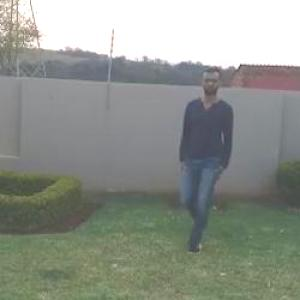follow: (173, 65, 234, 251)
